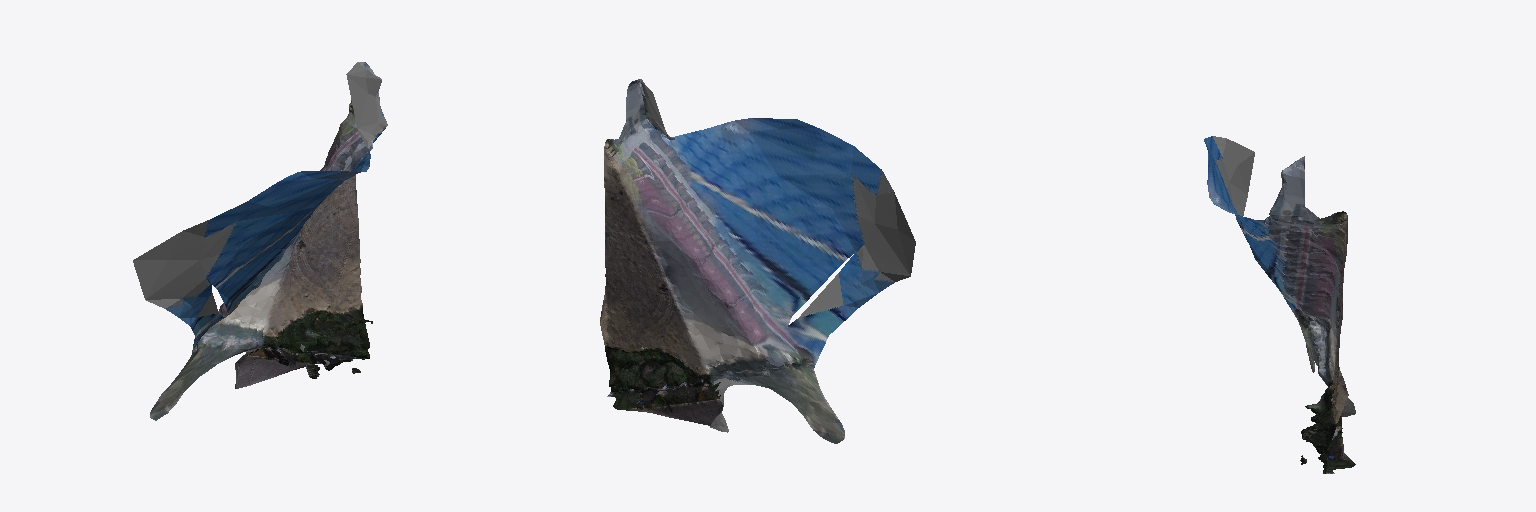
3 renders of one model, left to right at view 1: azimuth 30°, elevation 25°; view 2: azimuth 150°, elevation 25°; view 3: azimuth 270°, elevation 25°, orthographic.
Size of the model in its own units: 53.81 by 59.3 by 26.26.
2 materials, 1 textured.